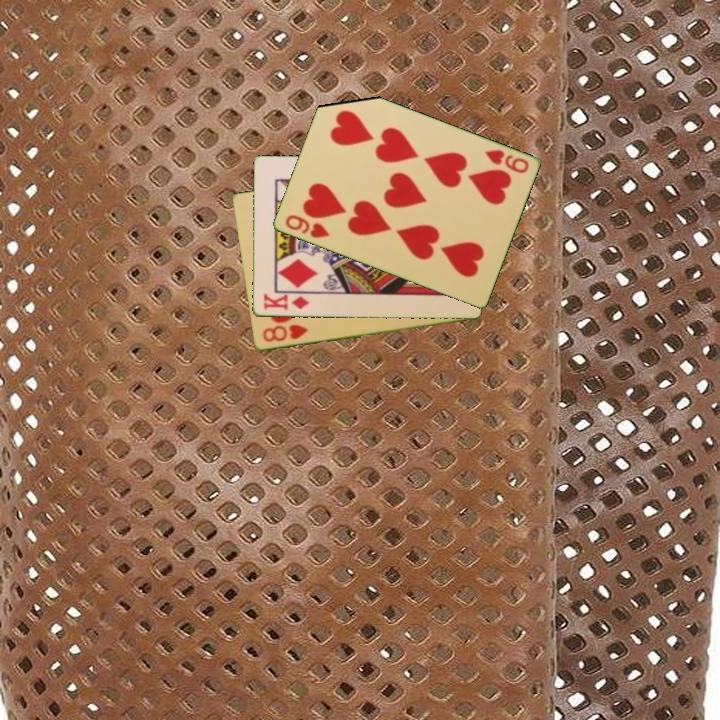8h: (259, 321, 310, 345)
9h: (281, 211, 332, 241), (481, 146, 531, 176)
Kd: (260, 291, 312, 313)
